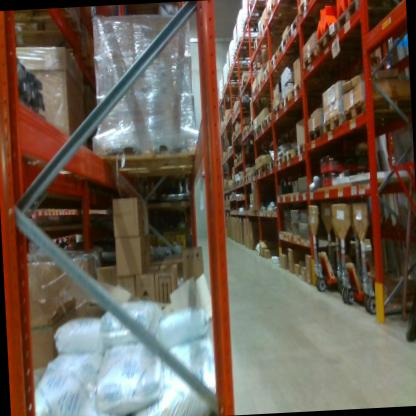pallet: (9, 12, 92, 53), (340, 87, 410, 132), (333, 0, 398, 32), (227, 33, 274, 75), (317, 19, 355, 56), (299, 47, 336, 81), (275, 25, 310, 57), (308, 111, 329, 153), (287, 13, 313, 46), (320, 108, 342, 146), (291, 80, 322, 106), (296, 0, 335, 19), (264, 0, 298, 21), (280, 88, 304, 114), (258, 19, 289, 39), (252, 84, 276, 107), (268, 48, 297, 67), (264, 112, 291, 131), (268, 99, 292, 119), (241, 14, 263, 34), (257, 75, 282, 92), (256, 116, 278, 135), (261, 63, 280, 85), (251, 125, 278, 140), (281, 142, 297, 166), (246, 0, 263, 20), (237, 84, 258, 100), (294, 141, 309, 162), (221, 79, 237, 96), (246, 117, 261, 132), (240, 77, 255, 92), (236, 36, 252, 50), (236, 101, 253, 114), (274, 152, 285, 172), (259, 160, 269, 178), (266, 158, 274, 176), (254, 166, 265, 179), (229, 145, 240, 156), (242, 125, 250, 138), (238, 152, 245, 163), (250, 169, 256, 181), (234, 127, 241, 137), (237, 123, 245, 131), (240, 175, 246, 185), (225, 113, 231, 123), (234, 155, 239, 165), (237, 177, 242, 187), (234, 176, 238, 188), (247, 174, 251, 184), (243, 174, 247, 184), (232, 158, 236, 167), (231, 130, 235, 139)
pallet_truck: (351, 198, 400, 318), (330, 198, 359, 306), (307, 200, 336, 296), (347, 204, 367, 310), (329, 202, 349, 298), (317, 198, 339, 275)
